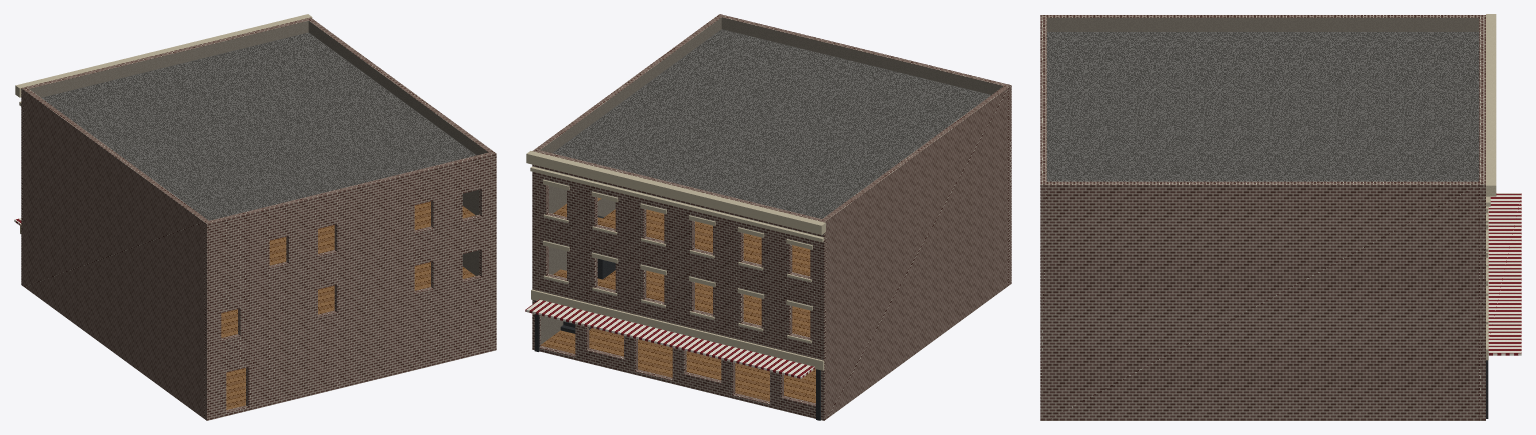
The model's file is main_street_dark_18m_3st.glb.
3 renders of one model, left to right at view 1: azimuth 30°, elevation 25°; view 2: azimuth 150°, elevation 25°; view 3: azimuth 270°, elevation 25°, orthographic. The views are drawn at different scales.
Parts seen in each view (by area): view 1: main_street_dark_18m_3st; view 2: main_street_dark_18m_3st; view 3: main_street_dark_18m_3st.
Part boxes in pixels (x1=…): main_street_dark_18m_3st: x1=14, y1=14, x2=496, y2=420; main_street_dark_18m_3st: x1=525, y1=14, x2=1011, y2=420; main_street_dark_18m_3st: x1=1040, y1=14, x2=1521, y2=420.
Bounding box in the file's own units: 18.2 × 11.7 × 21.6.
Materials: 7 (7 with a texture image).
